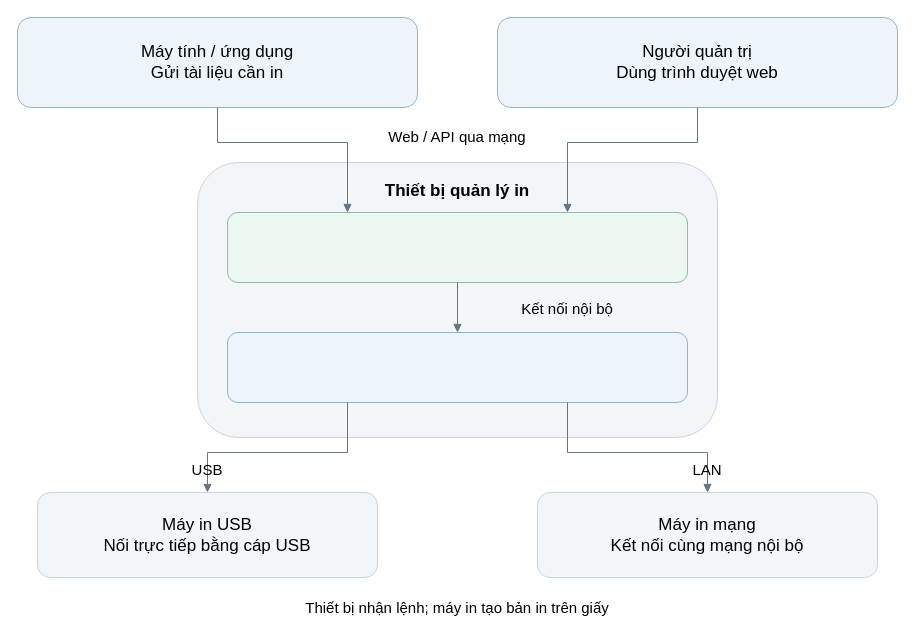
This 915x640 diagram has some shape labels left out. Here are the shapes that lost their labels. From the top down, the centre of each, then its label:
At (457,247): "Print Appliance Nhận và theo dõi lệnh in".
At (457,367): "CUPS + driver Chuyển tài liệu tới máy in".
